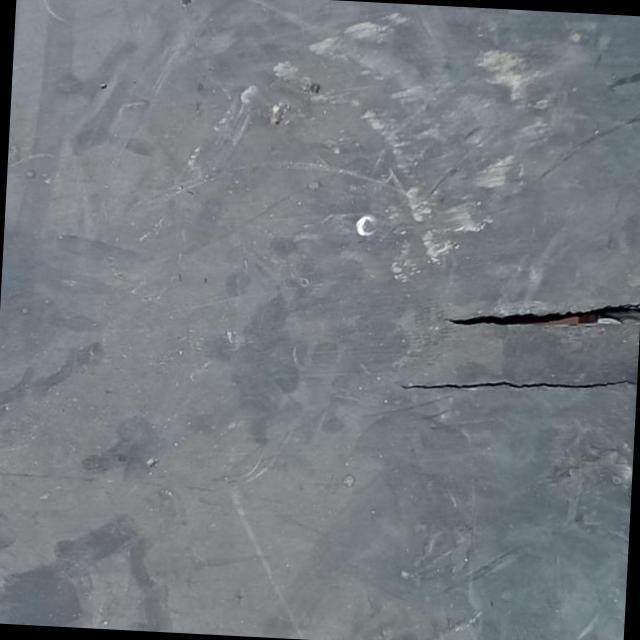Tear: (392, 365, 640, 405), (446, 293, 640, 330)
